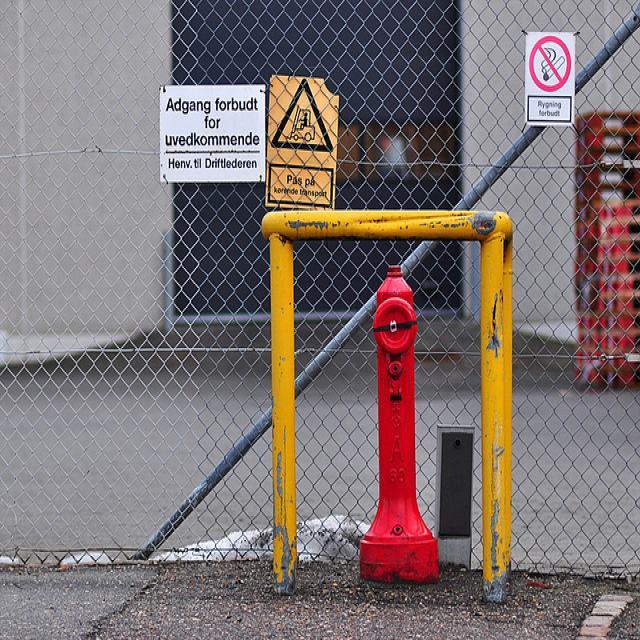fire_hydrant: (360, 264, 441, 578)
